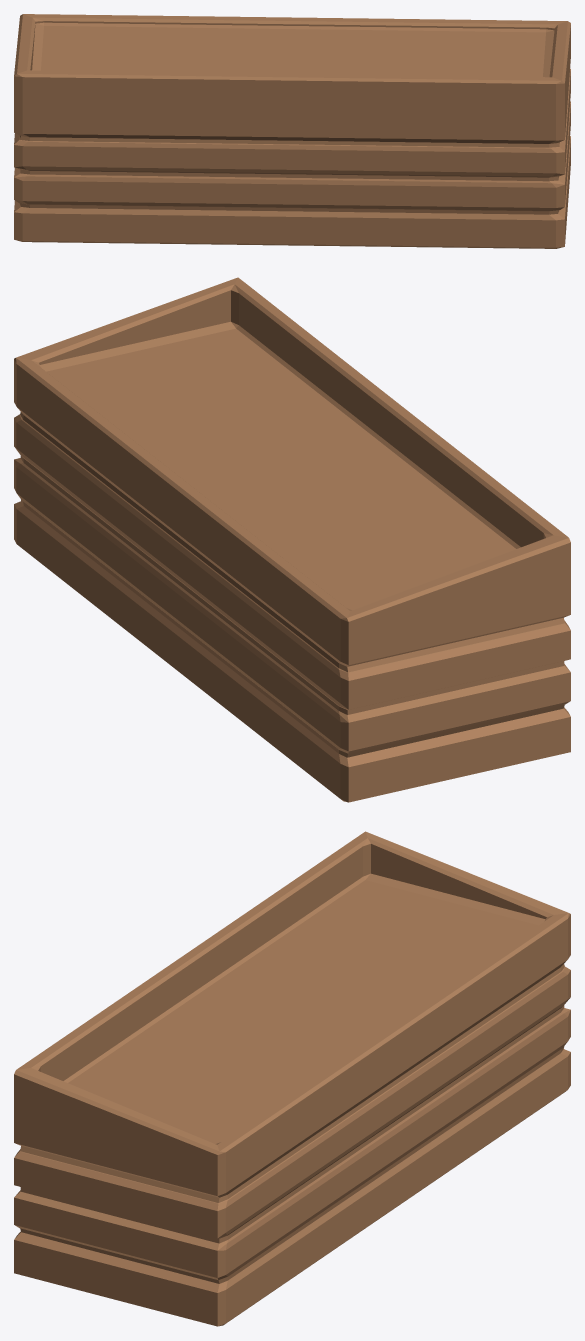
Rendered from market-table2.fbx.
3 views of the same model, one above another, from view 1: azimuth 30°, elevation 25°; view 2: azimuth 150°, elevation 25°; view 3: azimuth 270°, elevation 25° (orthographic). The views are drawn at different scales.
Visible parts, largest first — view 1: Cube.120; view 2: Cube.120; view 3: Cube.120.
Part boxes in pixels (bbox=[...]): Cube.120: bbox=[14, 14, 570, 248]; Cube.120: bbox=[14, 277, 570, 802]; Cube.120: bbox=[14, 831, 570, 1326].
Size of the model in its own units: 411 by 133 by 328.
